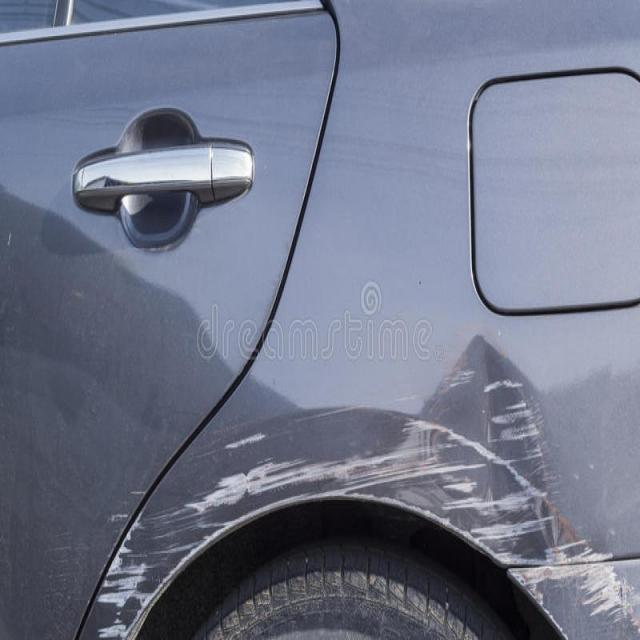car damage: (424, 318, 574, 561)
